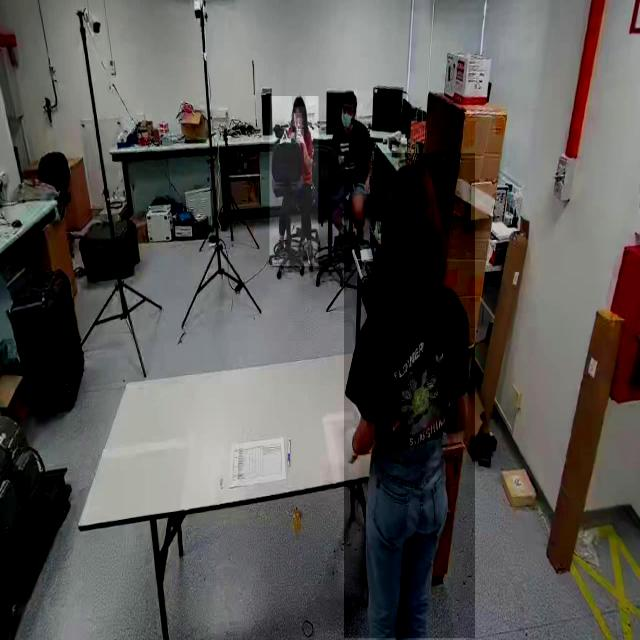face_mask: (343, 102, 357, 124)
face_nomask: (292, 113, 302, 127)
hand_noglove: (296, 129, 304, 144), (364, 177, 370, 195)
head_nohelmet: (381, 161, 439, 218), (342, 89, 358, 102), (292, 96, 306, 108)
person: (344, 153, 476, 639), (269, 96, 319, 267), (332, 91, 374, 269)
